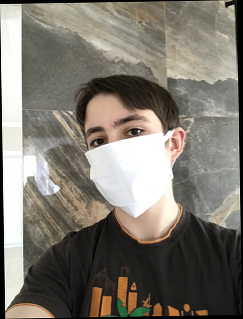with_mask: (84, 110, 175, 219)
